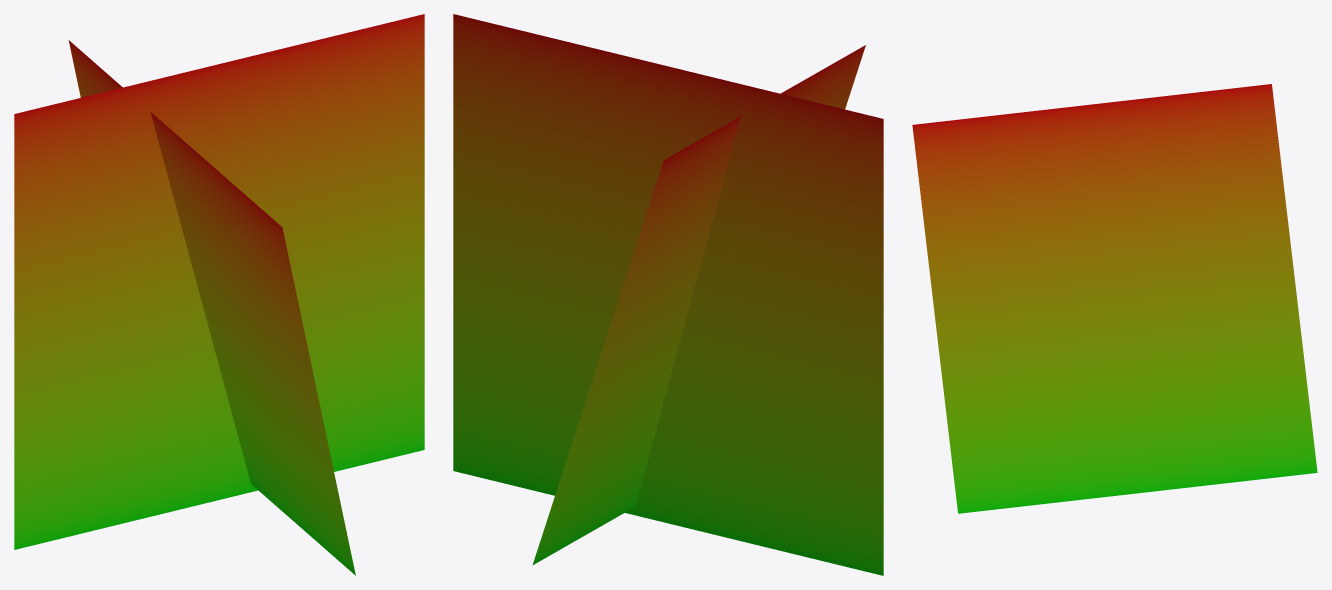
The model's file is Var3_LOD3.fbx.
The picture shows the model from 3 angles, left to right: view 1: azimuth 30°, elevation 25°; view 2: azimuth 150°, elevation 25°; view 3: azimuth 270°, elevation 25°; orthographic projection. The views are drawn at different scales.
Visible parts, largest first — view 1: _ea87_Var3_LOD3; view 2: _ea87_Var3_LOD3; view 3: _ea87_Var3_LOD3.
Boxes of the visible parts, x1,y1,x2,y2 form: _ea87_Var3_LOD3: (14, 14, 424, 575); _ea87_Var3_LOD3: (453, 14, 883, 575); _ea87_Var3_LOD3: (912, 84, 1317, 513).
Size of the model in its own units: 21.15 by 22.06 by 20.48.
